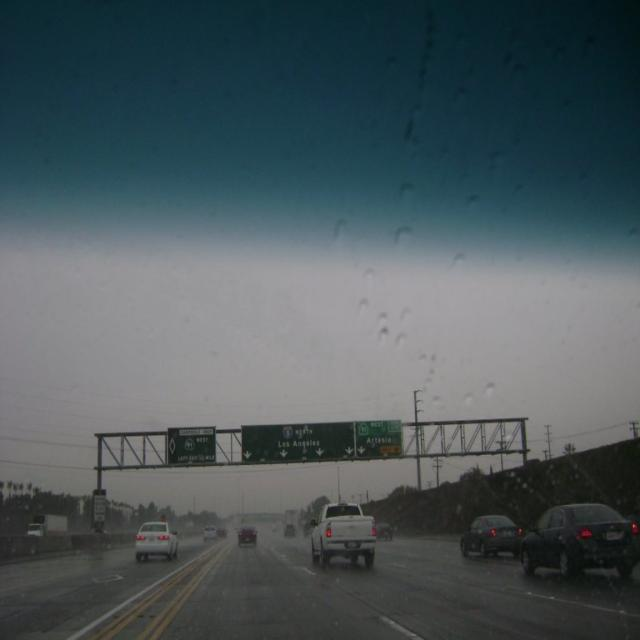car: (133, 515, 180, 563), (237, 522, 256, 545), (203, 525, 214, 543), (283, 524, 296, 535)
